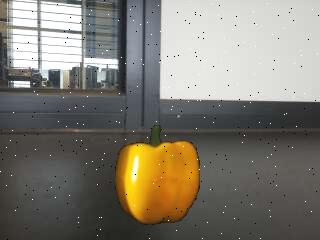Capsicum: (111, 123, 200, 226)
